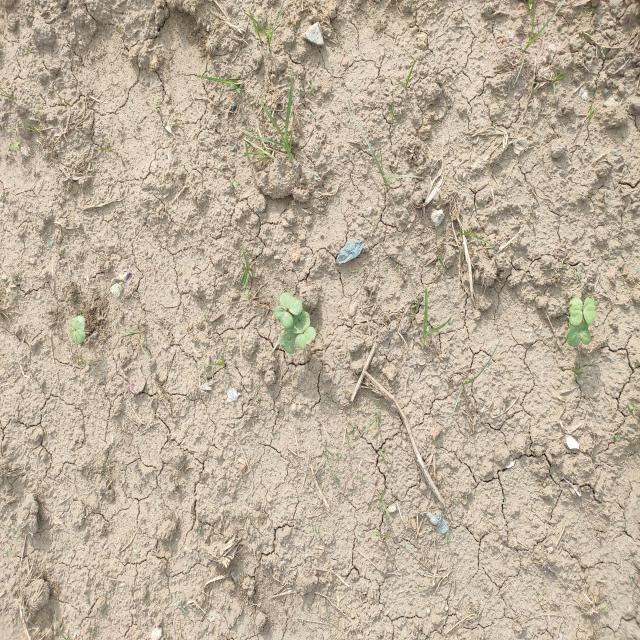seedling: (280, 293, 302, 316), (295, 326, 316, 349), (274, 306, 294, 328), (569, 297, 583, 327), (567, 323, 582, 347), (73, 315, 85, 344), (583, 297, 595, 325), (279, 334, 295, 354), (579, 318, 591, 344), (293, 317, 311, 334), (284, 327, 298, 346), (292, 312, 311, 324), (69, 322, 76, 343)
